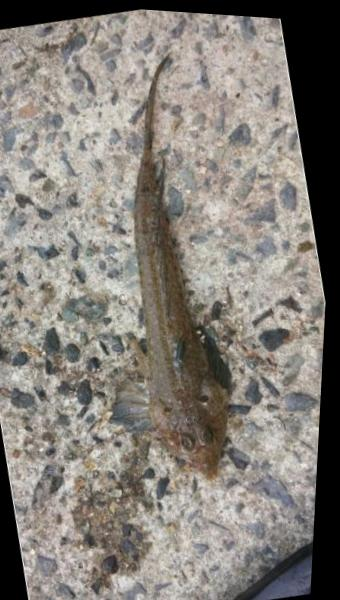fish: (112, 56, 235, 479)
